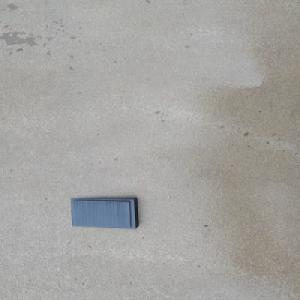PlasticPart: (69, 197, 140, 229)
